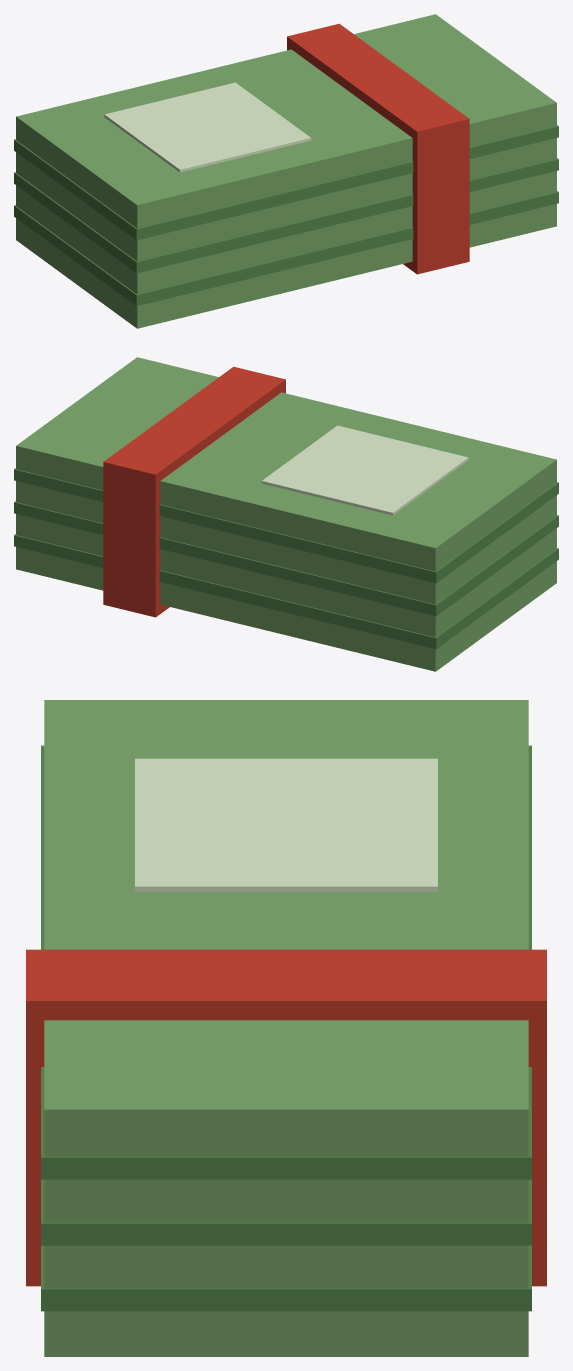
File: bill_wad.glb
The picture shows the model from 3 angles, top to bottom: view 1: azimuth 30°, elevation 25°; view 2: azimuth 150°, elevation 25°; view 3: azimuth 270°, elevation 25°; orthographic projection. The views are drawn at different scales.
Visible parts, largest first — view 1: bills_bill_green, edge_bill_edge, band_wad_band, stamp_bill_stamp; view 2: bills_bill_green, edge_bill_edge, band_wad_band, stamp_bill_stamp; view 3: bills_bill_green, band_wad_band, stamp_bill_stamp, edge_bill_edge.
Boxes of the visible parts, box(x1,y1,x2,y2) form: bills_bill_green: box(16, 14, 556, 328); edge_bill_edge: box(14, 125, 558, 306); band_wad_band: box(287, 23, 469, 274); stamp_bill_stamp: box(104, 82, 311, 172); bills_bill_green: box(16, 357, 556, 671); edge_bill_edge: box(14, 468, 558, 649); band_wad_band: box(103, 366, 285, 617); stamp_bill_stamp: box(261, 425, 468, 515); bills_bill_green: box(44, 700, 528, 1356); band_wad_band: box(26, 949, 546, 1286); stamp_bill_stamp: box(135, 758, 437, 892); edge_bill_edge: box(41, 745, 531, 1311).
Size of the model in its own units: 0.161 by 0.052 by 0.086.
